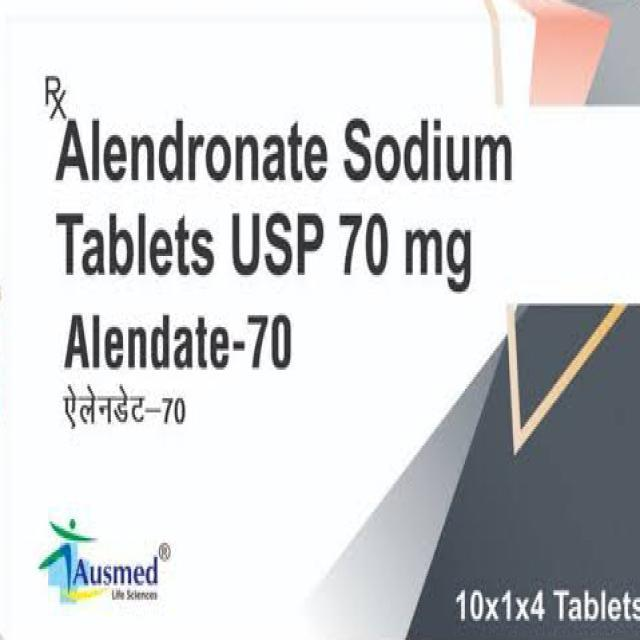drug-name: (61, 302, 300, 378)
